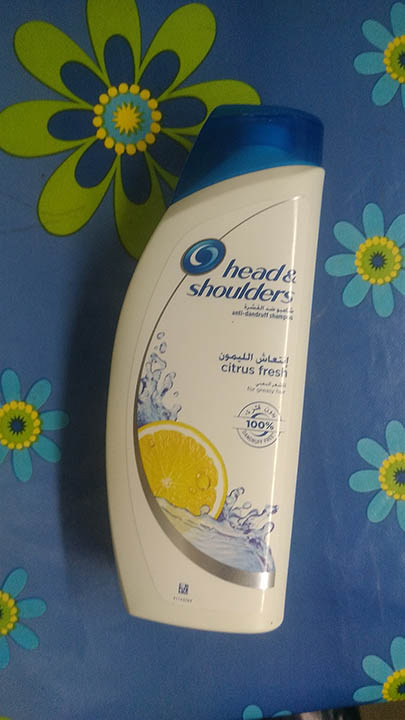shampoo-Lemon 3.5$: (110, 109, 331, 642)
